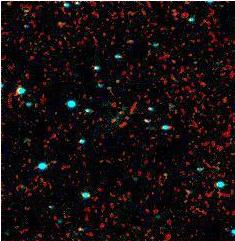star: (104, 95, 134, 125)
